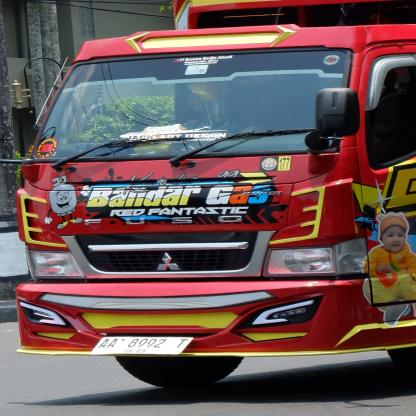Plat-Nomor: (82, 330, 195, 361)
